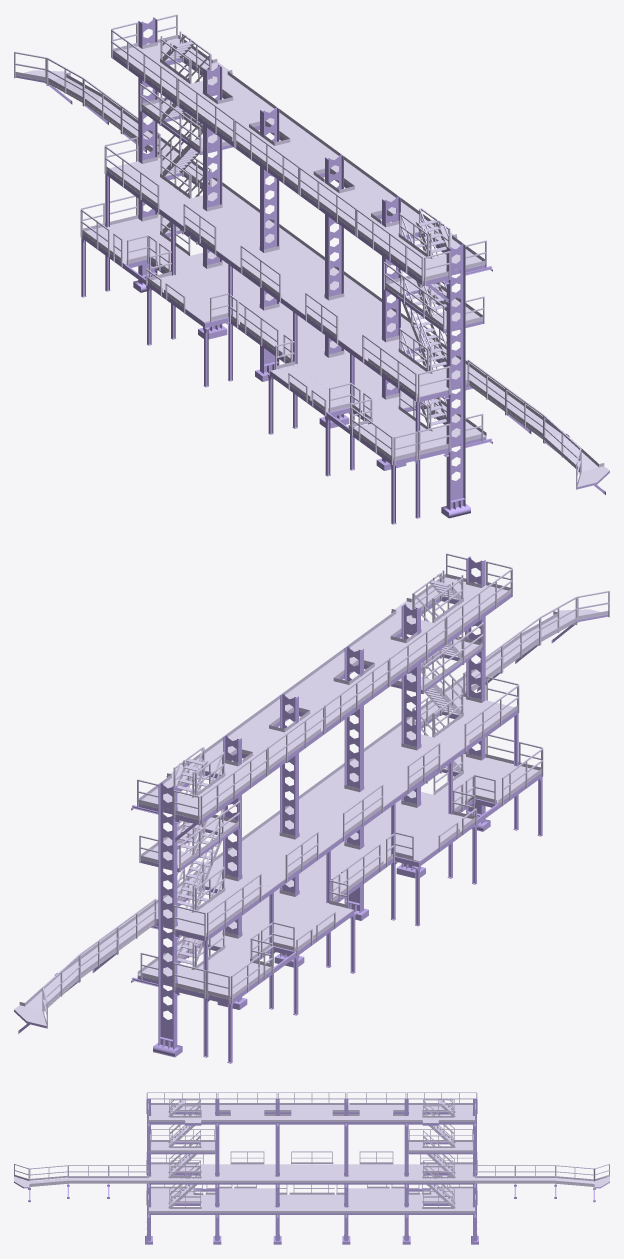
Rendered from HS-US-cut3.glb.
3 renders of one model, top to bottom at view 1: azimuth 30°, elevation 25°; view 2: azimuth 150°, elevation 25°; view 3: azimuth 270°, elevation 25°, orthographic. The views are drawn at different scales.
Parts seen in each view (by area): view 1: _000002081C2C26F0_08_IndexedFaceSet, _000002080FB1A4B0_IndexedFaceSet, _000002080FAFA770_IndexedFaceSet; view 2: _000002081C2C26F0_08_IndexedFaceSet, _000002080FB1A4B0_IndexedFaceSet, _000002080FAFA770_IndexedFaceSet; view 3: _000002081C2C26F0_08_IndexedFaceSet, _000002080FB1A4B0_IndexedFaceSet, _000002080FAFA770_IndexedFaceSet.
Boxes of the visible parts, <box> form: _000002081C2C26F0_08_IndexedFaceSet: <box>16,38,609,487</box>; _000002080FB1A4B0_IndexedFaceSet: <box>14,14,604,489</box>; _000002080FAFA770_IndexedFaceSet: <box>15,17,609,524</box>; _000002081C2C26F0_08_IndexedFaceSet: <box>14,577,607,1033</box>; _000002080FB1A4B0_IndexedFaceSet: <box>19,553,609,1028</box>; _000002080FAFA770_IndexedFaceSet: <box>14,556,608,1063</box>; _000002081C2C26F0_08_IndexedFaceSet: <box>14,1105,609,1210</box>; _000002080FB1A4B0_IndexedFaceSet: <box>14,1092,609,1213</box>; _000002080FAFA770_IndexedFaceSet: <box>14,1098,609,1244</box>.
Size of the model in its own units: 4.63 by 11.62 by 44.39.
